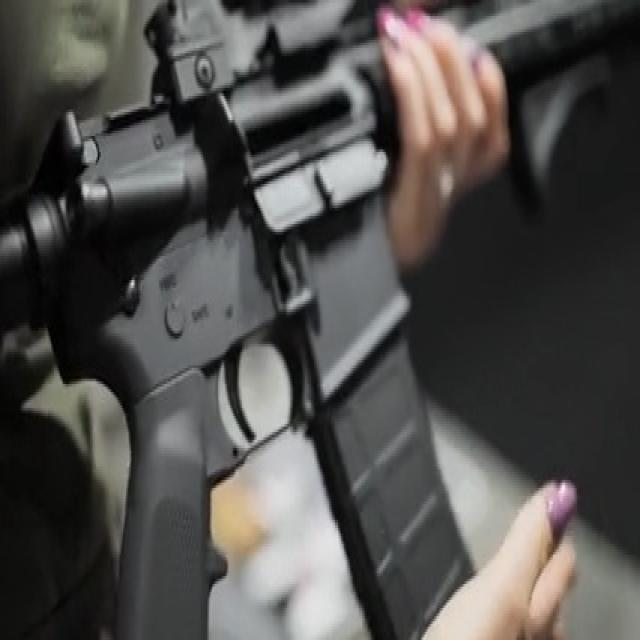Gun_Holder: (46, 0, 636, 640)
